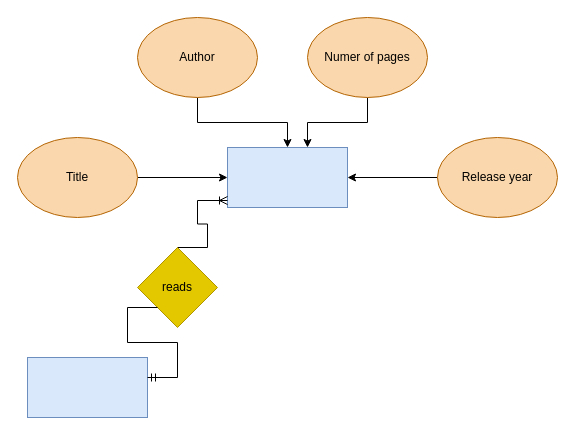
This 575x435 diagram has some shape labels left out. Each missing label, with the box of its shape:
Books: (226, 146, 348, 208)
Owner: (26, 356, 148, 418)
